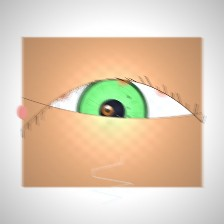foreign_body_visible: (36, 71, 85, 110)
